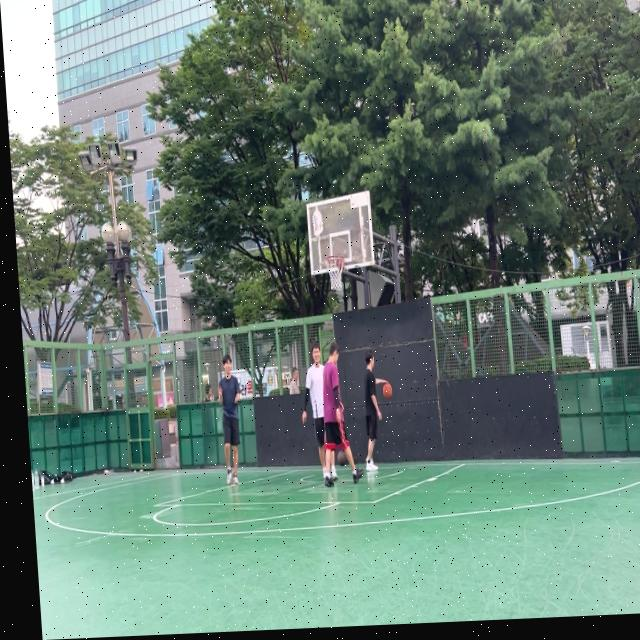basketball: (382, 381, 393, 399), (337, 450, 347, 467)
hoop: (325, 255, 347, 292)
